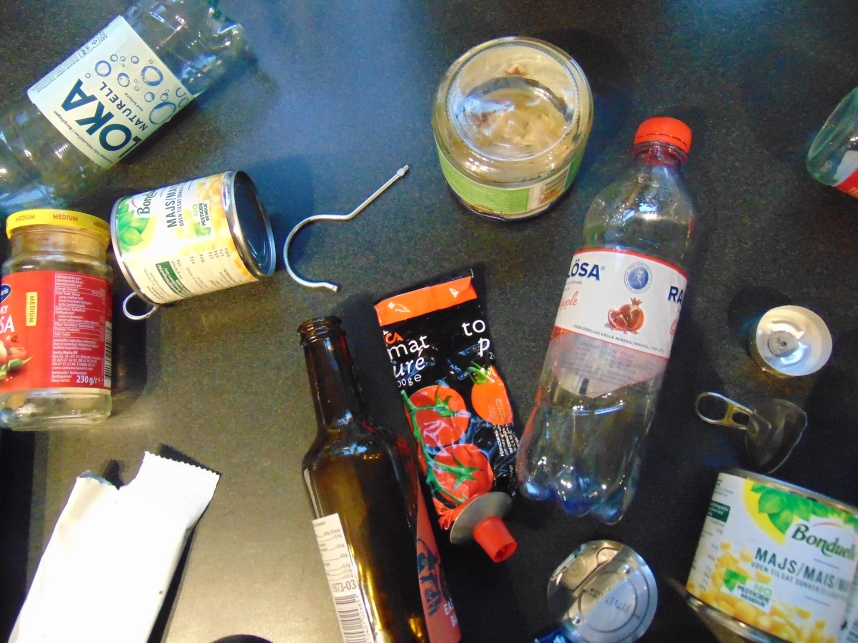glass_bottle: (294, 315, 462, 643), (431, 33, 596, 225), (1, 211, 115, 432), (803, 79, 858, 201)
metal: (375, 266, 521, 562), (283, 161, 415, 297), (545, 541, 655, 639), (696, 386, 806, 475), (748, 303, 835, 380), (121, 286, 159, 320)
metal_can: (685, 464, 858, 643), (110, 170, 278, 308)
plastic_bottle: (510, 113, 700, 535), (1, 1, 248, 212)
